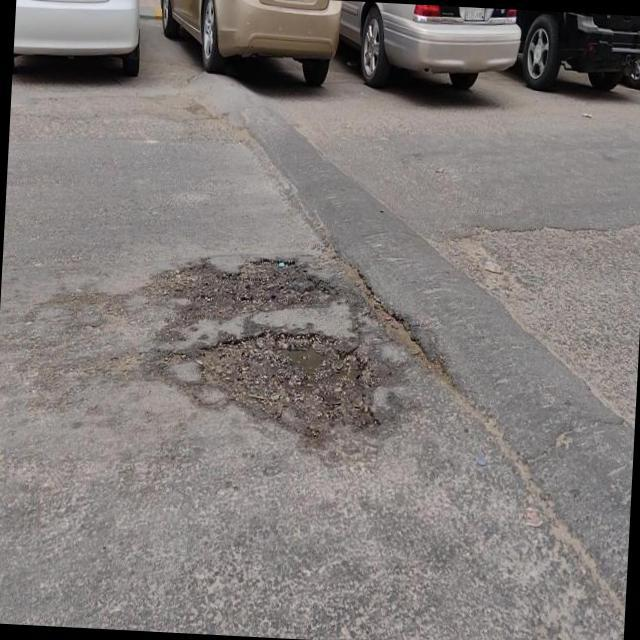Pothole: (197, 328, 380, 433), (159, 255, 332, 340)
